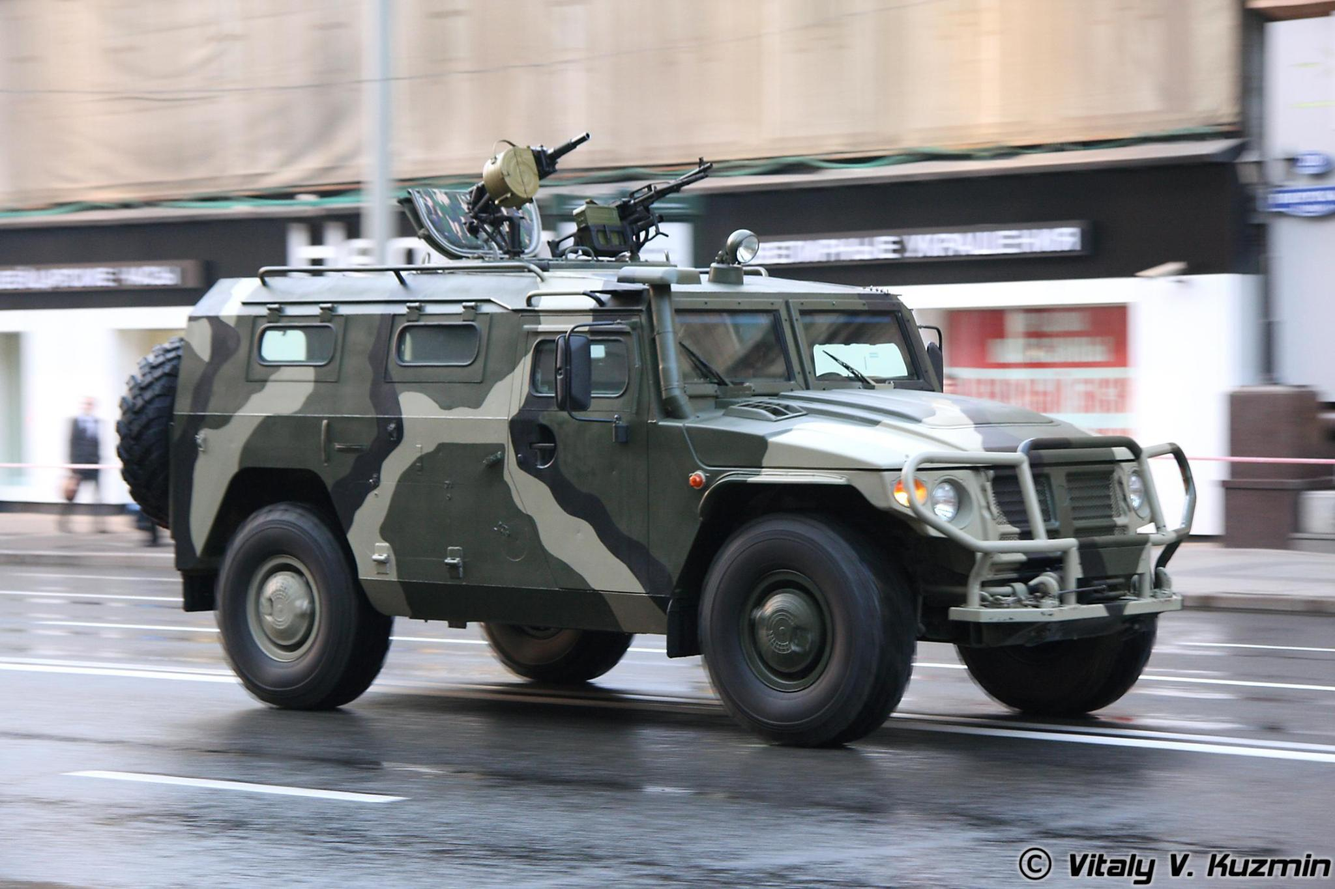armored_car: (116, 111, 1198, 774)
